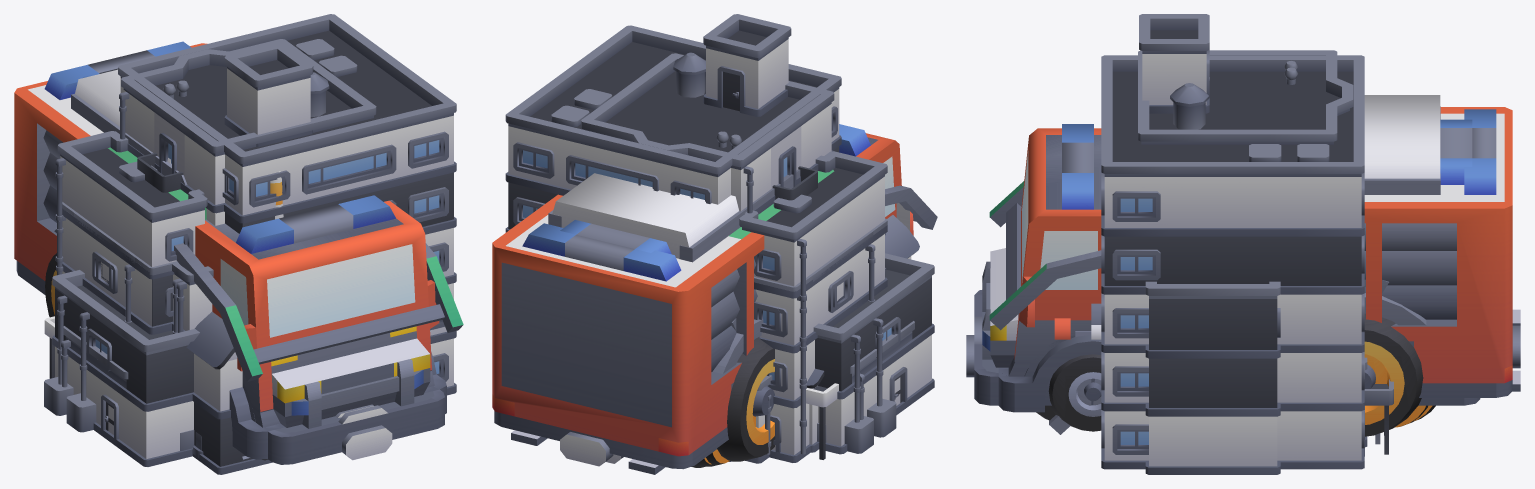
Rendered from island-props.glb.
3 views of the same model, side by side, from view 1: azimuth 30°, elevation 25°; view 2: azimuth 150°, elevation 25°; view 3: azimuth 270°, elevation 25° (orthographic). The views are drawn at different scales.
Visible parts, largest first — view 1: body (×3), building-n (×2), building-j, building-q, building-l, arm, grill, building-r, building-a, building-k, wheel-back-right; view 2: body (×4), building-n (×2), building-j, building-q, building-l, wheel-back-right, building-r, building-k, building-a, arm, building-s; view 3: building-n, body (×4), building-r, building-l, wheel-back-left, arm, wheel-front-left, grill, building-c.
Part boxes in pixels (x1,y1,x2,y2): body (×3): (14,41,446,464); building-n (×2): (44,14,456,474); building-j: (55,131,207,334); building-q: (44,270,199,466); building-l: (119,39,376,225); arm: (174,243,463,381); grill: (275,359,434,432); building-r: (61,326,128,445); building-a: (56,202,172,334); building-k: (74,213,137,322); wheel-back-right: (45,253,56,317); body (×4): (492,124,913,474); building-n (×2): (505,14,919,459); building-j: (739,151,887,462); building-q: (745,253,934,463); building-l: (581,52,834,214); wheel-back-right: (717,337,774,461); building-r: (850,321,914,420); building-k: (810,231,875,374); building-a: (754,218,887,452); arm: (885,185,937,229); building-s: (807,368,826,452); building-n: (1101,14,1384,469); body (×4): (966,95,1520,412); building-r: (1145,281,1280,474); building-l: (1138,50,1353,144); wheel-back-left: (1364,313,1423,436); arm: (989,181,1101,330); wheel-front-left: (1048,354,1101,431); grill: (974,261,998,372); building-c: (1101,363,1393,456).
Size of the model in its own units: 2.54 by 2.48 by 3.45.
Materials: 5 (5 with a texture image).
